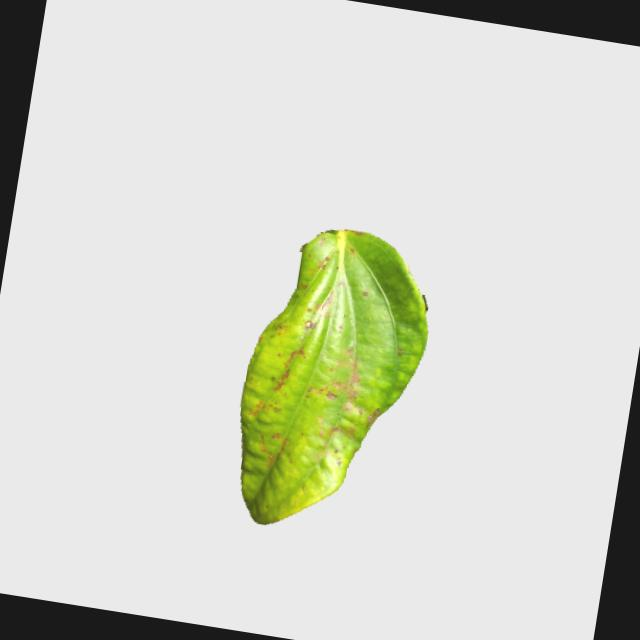yellow-mottle-virus: (212, 211, 454, 548)
